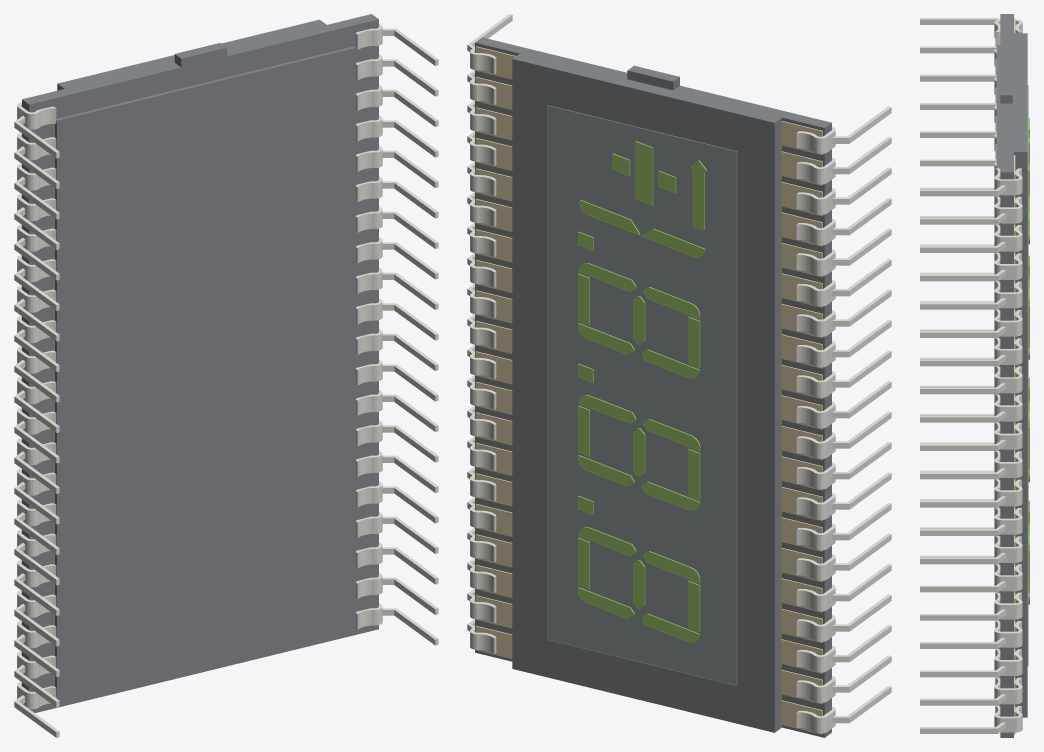
The picture shows the model from 3 angles, left to right: view 1: azimuth 30°, elevation 25°; view 2: azimuth 150°, elevation 25°; view 3: azimuth 270°, elevation 25°; orthographic projection. The views are drawn at different scales.
Visible parts, largest first — view 1: Shape_IndexedFaceSet.864, Shape_IndexedFaceSet.009, Shape_IndexedFaceSet.012, Shape_IndexedFaceSet.006, Shape_IndexedFaceSet.008, Shape_IndexedFaceSet.232, Shape_IndexedFaceSet.005; view 2: Shape_IndexedFaceSet.27643, Shape_IndexedFaceSet.864, Shape_IndexedFaceSet.341, Shape_IndexedFaceSet.011, Shape_IndexedFaceSet.013, Shape_IndexedFaceSet.260, Shape_IndexedFaceSet.012, Shape_IndexedFaceSet.006, Shape_IndexedFaceSet.008, Shape_IndexedFaceSet.867, Shape_IndexedFaceSet.28125, Shape_IndexedFaceSet.28123 (+10 smaller); view 3: Shape_IndexedFaceSet.342, Shape_IndexedFaceSet.012, Shape_IndexedFaceSet.869, Shape_IndexedFaceSet.008, Shape_IndexedFaceSet.006, Shape_IndexedFaceSet.232, Shape_IndexedFaceSet.867, Shape_IndexedFaceSet.27644, Shape_IndexedFaceSet.27648, Shape_IndexedFaceSet.27652, Shape_IndexedFaceSet.27656, Shape_IndexedFaceSet.27660 (+31 smaller).
Boxes of the visible parts, x1=… form: Shape_IndexedFaceSet.864: x1=57, y1=48, x2=355, y2=696; Shape_IndexedFaceSet.009: x1=29, y1=19, x2=378, y2=712; Shape_IndexedFaceSet.012: x1=57, y1=19, x2=326, y2=88; Shape_IndexedFaceSet.006: x1=22, y1=62, x2=180, y2=104; Shape_IndexedFaceSet.008: x1=227, y1=14, x2=378, y2=56; Shape_IndexedFaceSet.232: x1=56, y1=46, x2=354, y2=120; Shape_IndexedFaceSet.005: x1=181, y1=56, x2=227, y2=82; Shape_IndexedFaceSet.27643: x1=547, y1=106, x2=736, y2=685; Shape_IndexedFaceSet.864: x1=548, y1=105, x2=736, y2=684; Shape_IndexedFaceSet.341: x1=512, y1=59, x2=774, y2=732; Shape_IndexedFaceSet.011: x1=782, y1=117, x2=824, y2=737; Shape_IndexedFaceSet.013: x1=475, y1=42, x2=519, y2=661; Shape_IndexedFaceSet.260: x1=774, y1=118, x2=781, y2=732; Shape_IndexedFaceSet.012: x1=513, y1=53, x2=781, y2=122; Shape_IndexedFaceSet.006: x1=673, y1=85, x2=831, y2=127; Shape_IndexedFaceSet.008: x1=475, y1=37, x2=627, y2=78; Shape_IndexedFaceSet.867: x1=736, y1=152, x2=737, y2=685; Shape_IndexedFaceSet.28125: x1=635, y1=141, x2=652, y2=205; Shape_IndexedFaceSet.28123: x1=692, y1=170, x2=704, y2=230; Shape_IndexedFaceSet.342: x1=1014, y1=152, x2=1027, y2=717; Shape_IndexedFaceSet.012: x1=1014, y1=33, x2=1027, y2=151; Shape_IndexedFaceSet.869: x1=1027, y1=171, x2=1028, y2=665; Shape_IndexedFaceSet.008: x1=1000, y1=103, x2=1013, y2=172; Shape_IndexedFaceSet.006: x1=1000, y1=14, x2=1013, y2=74; Shape_IndexedFaceSet.232: x1=996, y1=45, x2=1000, y2=168; Shape_IndexedFaceSet.867: x1=1028, y1=85, x2=1028, y2=579; Shape_IndexedFaceSet.27644: x1=920, y1=191, x2=997, y2=196; Shape_IndexedFaceSet.27648: x1=920, y1=219, x2=997, y2=224; Shape_IndexedFaceSet.27652: x1=920, y1=247, x2=997, y2=252; Shape_IndexedFaceSet.27656: x1=920, y1=276, x2=997, y2=281; Shape_IndexedFaceSet.27660: x1=920, y1=304, x2=997, y2=309.
Bounding box in the file's own units: 13.12 × 20.29 × 3.52.
